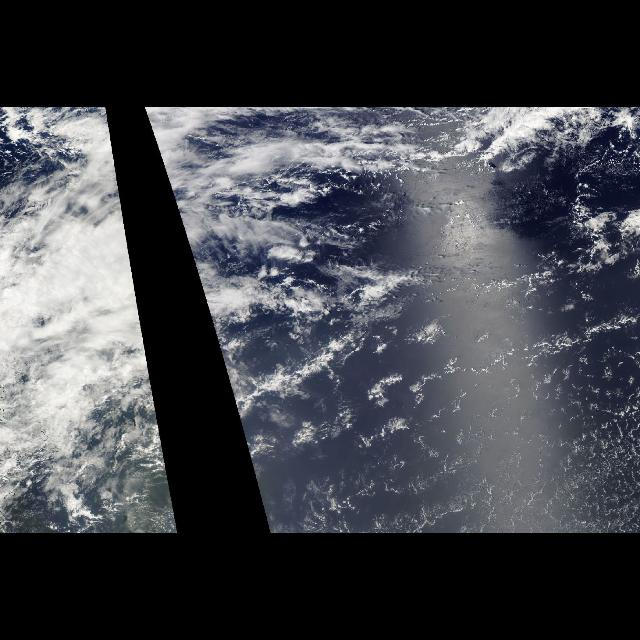Gravel: (318, 332, 634, 526)
Sugar: (421, 396, 639, 532)
